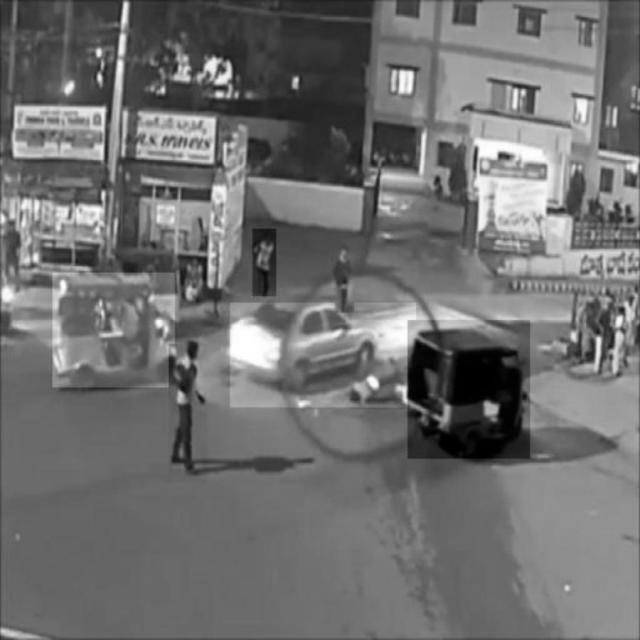accident: (230, 303, 416, 407)
person: (169, 344, 207, 482), (253, 229, 277, 296), (335, 247, 353, 313)
vehicle: (408, 320, 530, 458), (53, 273, 175, 387)
